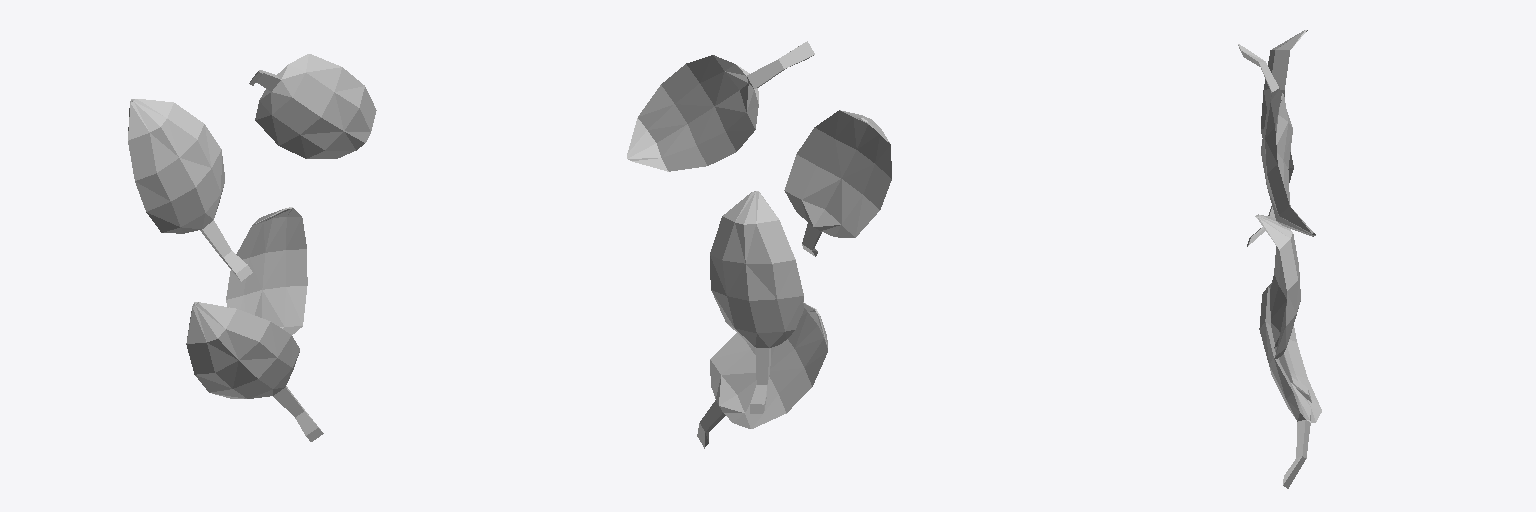
File: nest_bed_1.obj
3 renders of one model, left to right at view 1: azimuth 30°, elevation 25°; view 2: azimuth 150°, elevation 25°; view 3: azimuth 270°, elevation 25°, orthographic.
Parts seen in each view (by area): view 1: Leaf_1.003_Cube.011, Leaf_1.002_Cube.007, Leaf_3.002_Cube.010, Leaf_2.002_Cube.009; view 2: Leaf_1.002_Cube.007, Leaf_2.002_Cube.009, Leaf_1.003_Cube.011, Leaf_3.002_Cube.010; view 3: Leaf_1.002_Cube.007, Leaf_3.002_Cube.010, Leaf_2.002_Cube.009, Leaf_1.003_Cube.011.
Part boxes in pixels (x1,y1,x2,y2): Leaf_1.003_Cube.011: (128, 99, 252, 281); Leaf_1.002_Cube.007: (249, 54, 376, 158); Leaf_3.002_Cube.010: (186, 302, 323, 441); Leaf_2.002_Cube.009: (226, 207, 307, 334); Leaf_1.002_Cube.007: (627, 41, 814, 171); Leaf_2.002_Cube.009: (710, 191, 803, 413); Leaf_1.003_Cube.011: (784, 110, 891, 256); Leaf_3.002_Cube.010: (697, 302, 827, 448); Leaf_1.002_Cube.007: (1238, 44, 1315, 236); Leaf_3.002_Cube.010: (1259, 282, 1321, 488); Leaf_2.002_Cube.009: (1255, 214, 1311, 402); Leaf_1.003_Cube.011: (1247, 30, 1307, 246).
Size of the model in its own units: 0.8282 by 1.29 by 0.2418.